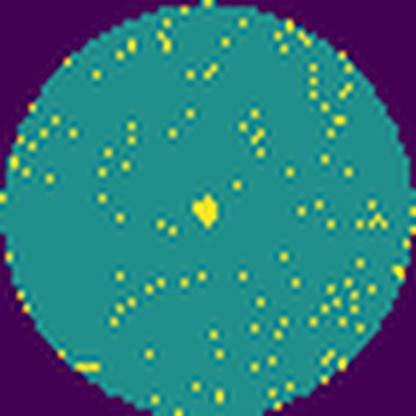Center: (191, 194, 220, 232)
